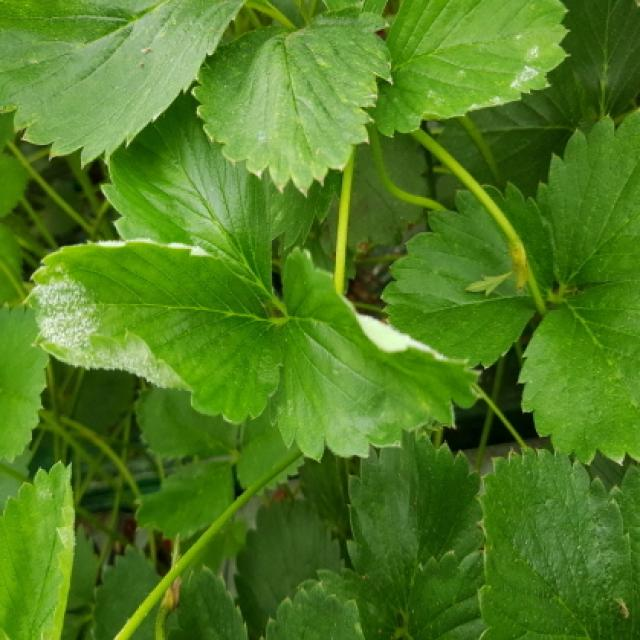Powdery Mildew Leaf: (22, 240, 285, 428), (269, 248, 481, 463), (362, 0, 570, 138)
